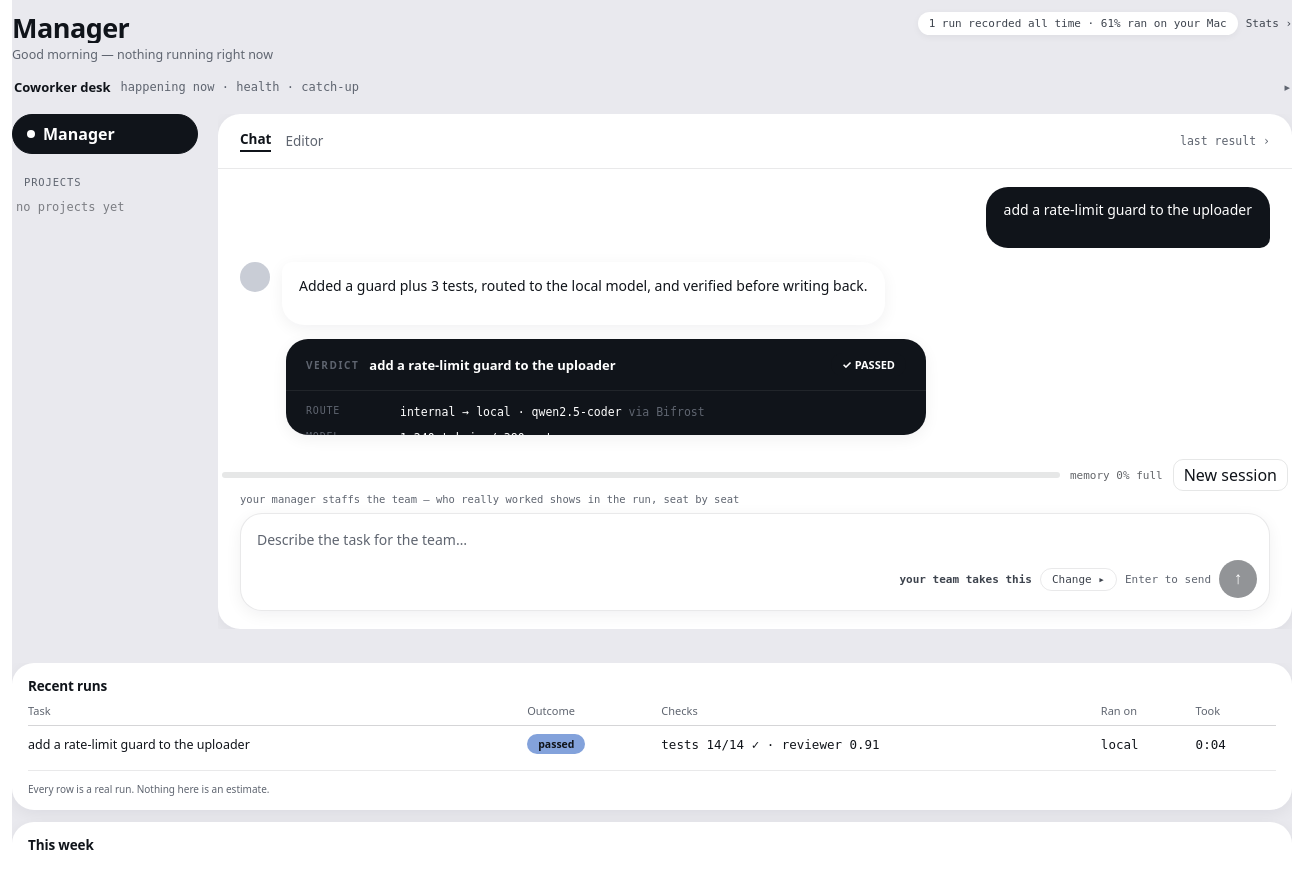
Test: Work composer target — who gets this task › says plainly that a simulated send records no proposal
This screenshot has width=1304, height=874.
Click the button with aria-label "Change who takes this".
click(1078, 579)  # box 1040,568 -> 1117,591
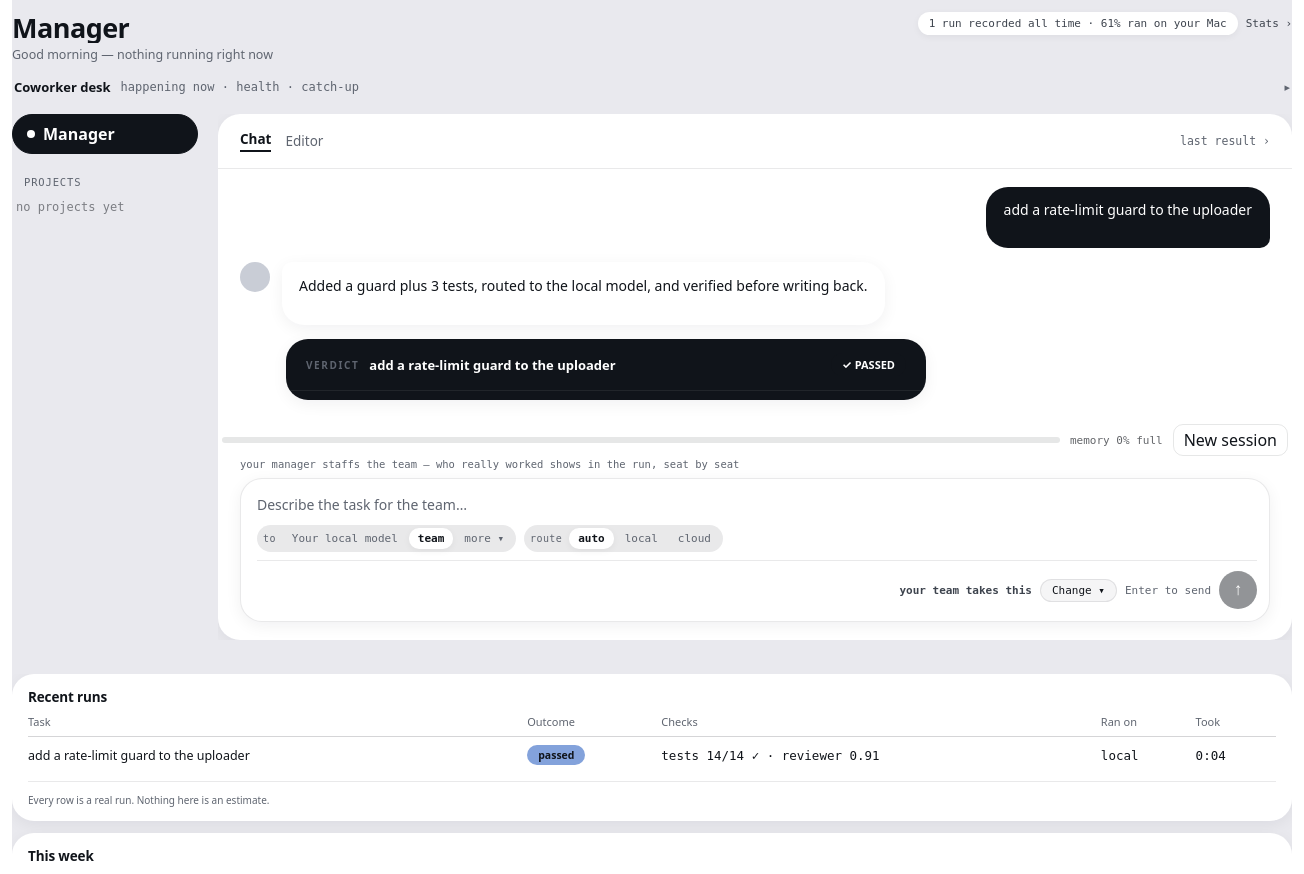
Click the button "more ▾".
click(484, 539)  # box 455,528 -> 513,549
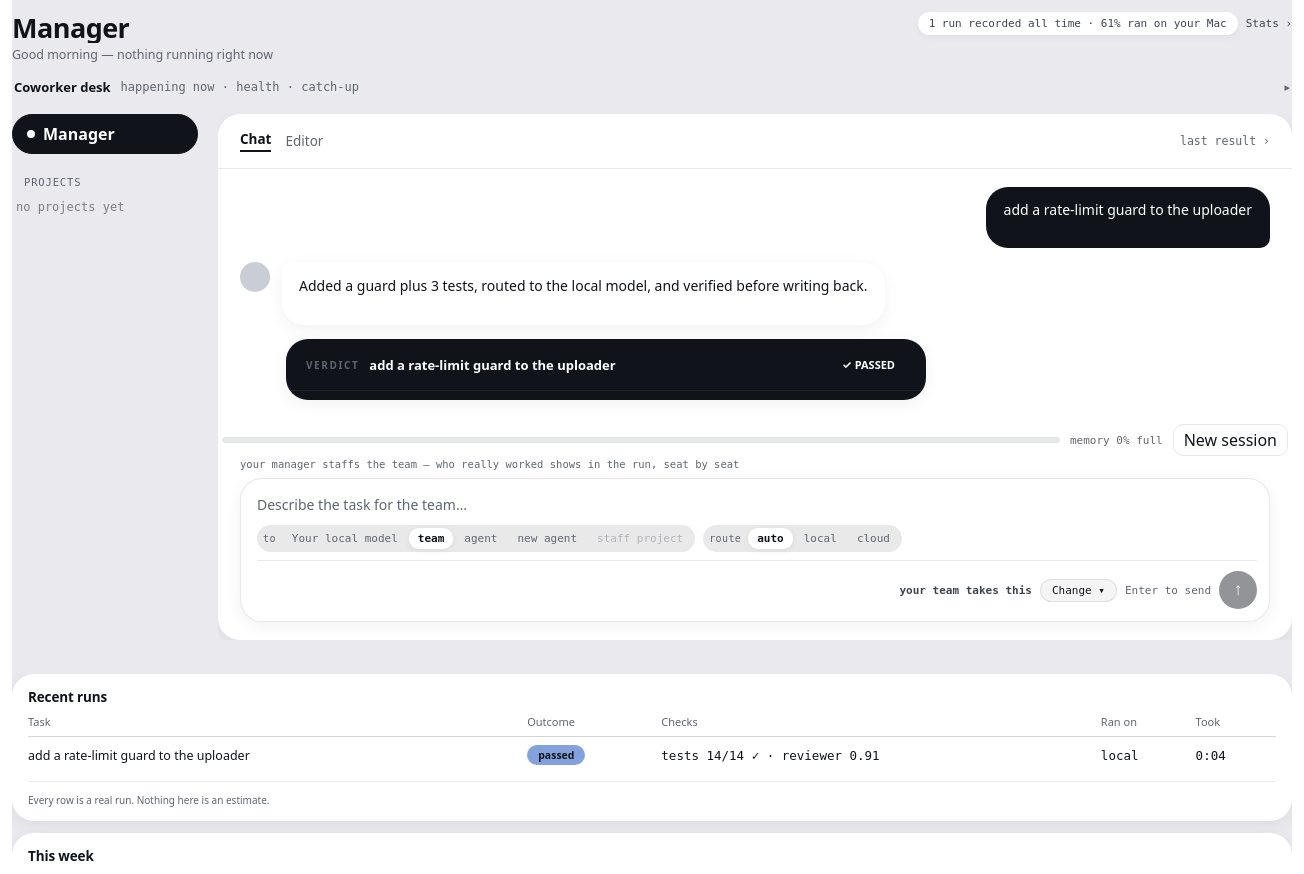
Click the radio button labelled "new agent".
click(547, 539)  # box 508,528 -> 586,549
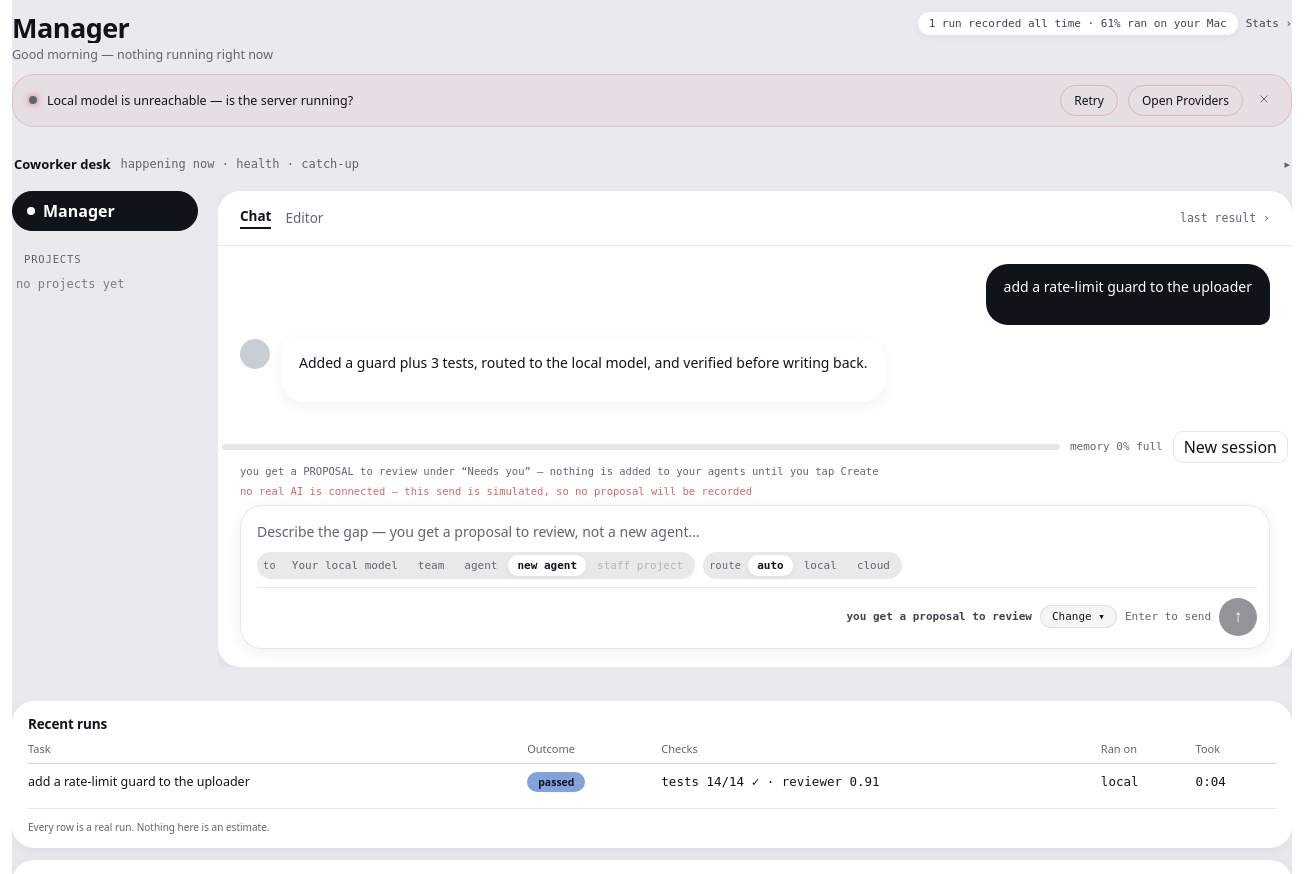
Expected: the text "no real AI is connected" is shown, 240,485 -> 752,497
